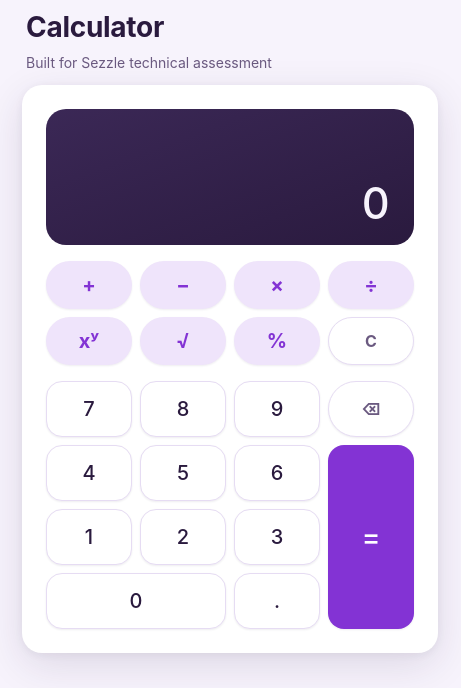
Scenario: App › shows a friendly error for division by zero
What coordinates should you click on to do the following:
click the button "5"
I would click on:
 (183, 472)
Its box is [140,444,226,500].
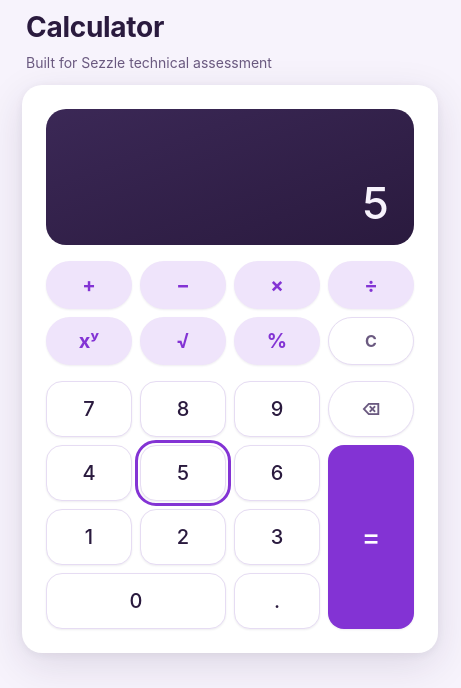
What coordinates should you click on to do the following:
click the button named "Divide"
I would click on:
 (371, 284)
Its box is [328,260,414,308].
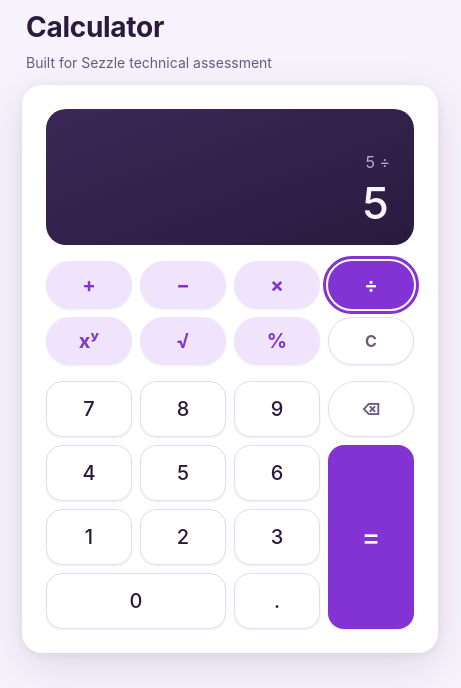
What coordinates should you click on to do the following:
click the button "0"
I would click on:
 (136, 600)
Its box is [46,572,226,628].
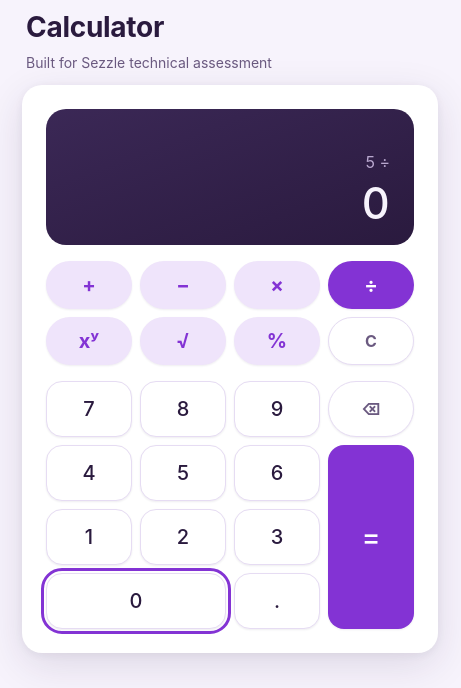
What coordinates should you click on to do the following:
click the button named "Equals"
I would click on:
 (371, 536)
Its box is [328,444,414,628].
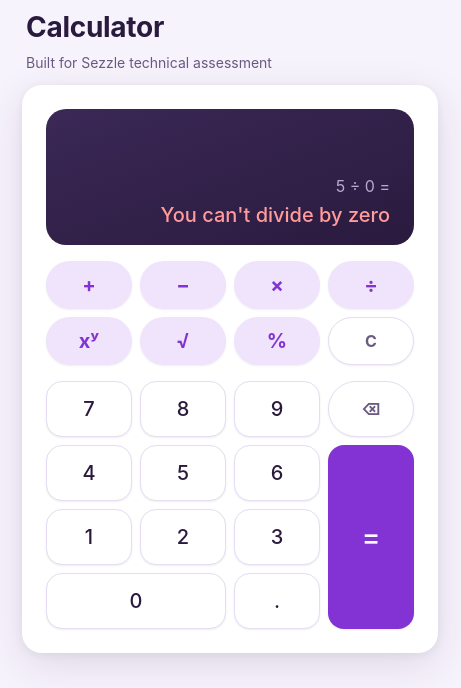
Now the text "You can't divide by zero" is shown, box [161,202,390,226]
